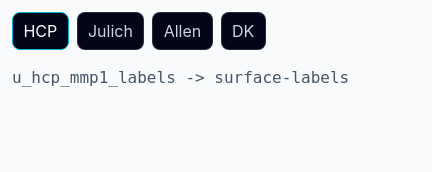
Test: filters › switches atlas render layers when a different atlas is selected
The width and height of the screenshot is (432, 172).
Click the button "Julich". click: point(110, 31)
box: [77,12,144,50]
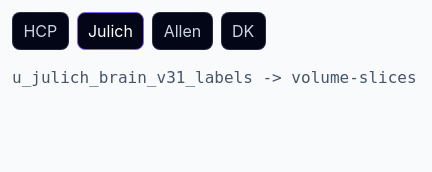
Now the text with test id "atlas-render-layer" shows "u_julich_brain_v31_labels", box [12,68,253,87]
